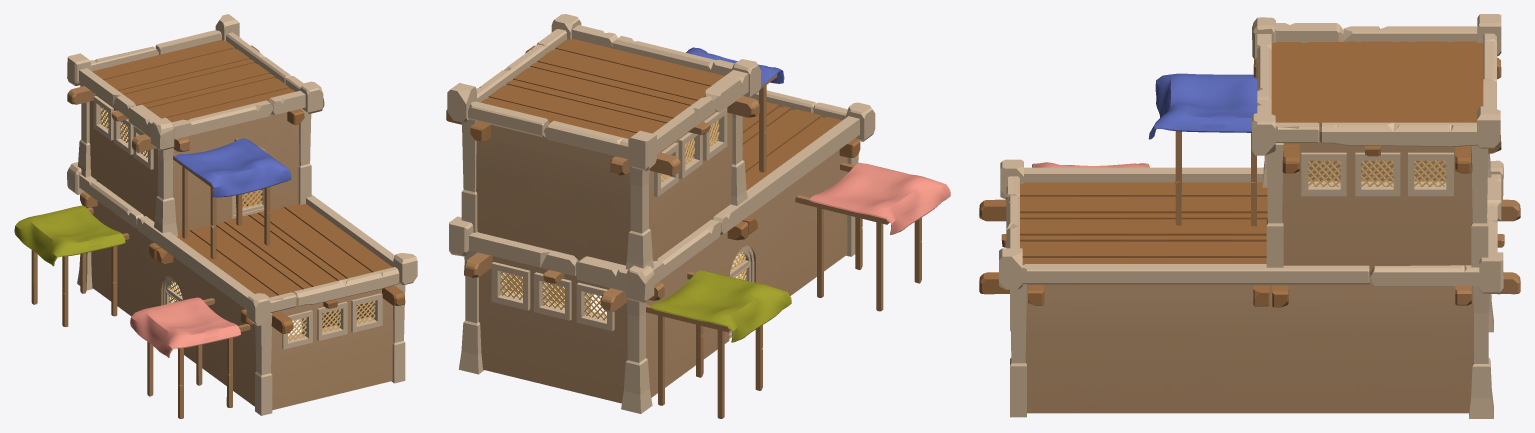
Rendered from Building08.fbx.
The picture shows the model from 3 angles, left to right: view 1: azimuth 30°, elevation 25°; view 2: azimuth 150°, elevation 25°; view 3: azimuth 270°, elevation 25°; orthographic projection. The views are drawn at different scales.
Visible parts, largest first — view 1: Building08; view 2: Building08; view 3: Building08.
Part boxes in pixels (box(x1,y1,x2,y2)): Building08: box(14, 14, 417, 418); Building08: box(446, 14, 950, 418); Building08: box(979, 14, 1520, 418).
Size of the model in its own units: 6.74 by 9.47 by 5.93.
